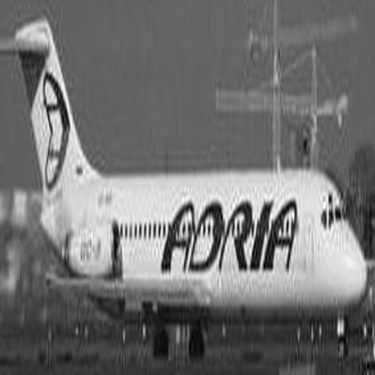airplane: (1, 8, 369, 370)
